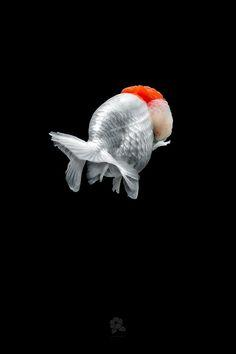goldfish: (46, 76, 190, 204)
